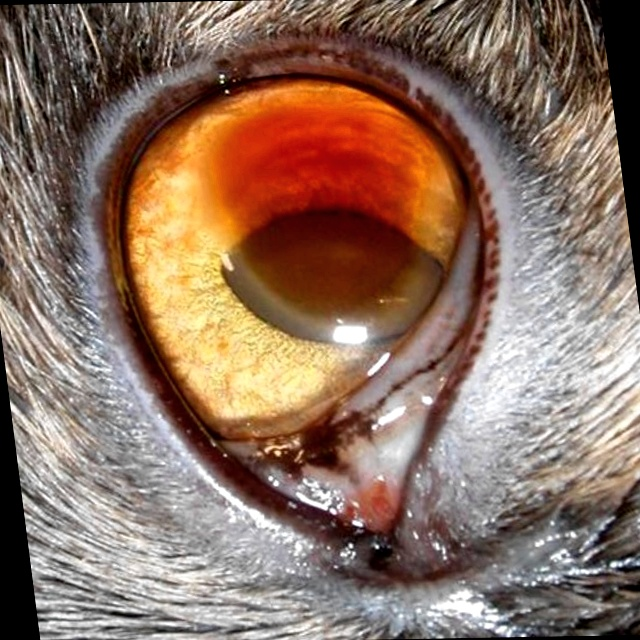eye_infection: (78, 67, 534, 554)
